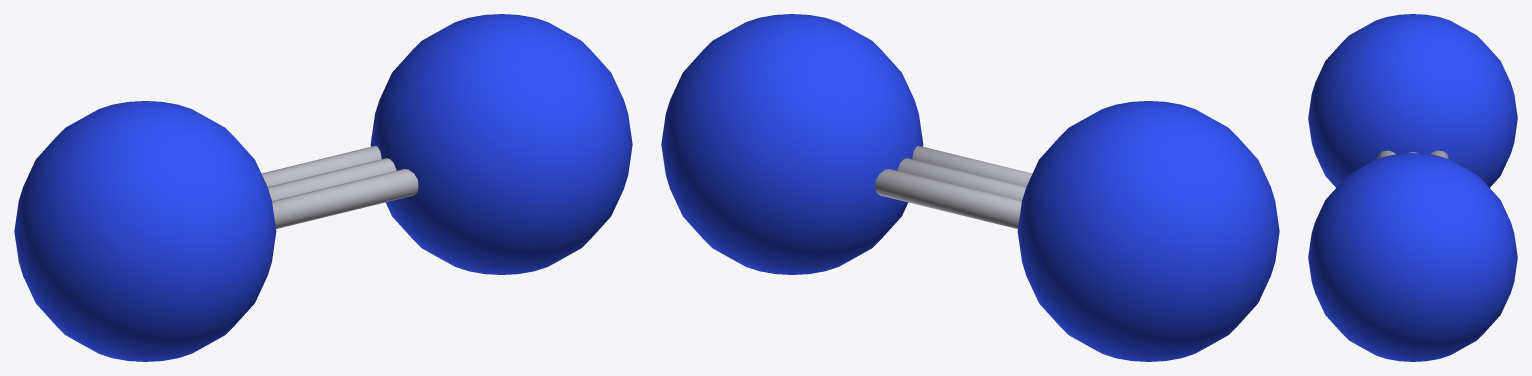
Rendered from nitrogen.glb.
The picture shows the model from 3 angles, left to right: view 1: azimuth 30°, elevation 25°; view 2: azimuth 150°, elevation 25°; view 3: azimuth 270°, elevation 25°; orthographic projection. The views are drawn at different scales.
Parts seen in each view (by area): view 1: N1, N0, bond0-0, bond0-1, bond0-2; view 2: N1, N0, bond0-2, bond0-1, bond0-0; view 3: N0, N1.
Part boxes in pixels (bbox=[...]): N1: bbox=[14, 101, 276, 361]; N0: bbox=[370, 14, 632, 274]; bond0-0: bbox=[272, 169, 418, 228]; bond0-1: bbox=[267, 158, 396, 200]; bond0-2: bbox=[261, 145, 381, 186]; N1: bbox=[1017, 101, 1279, 361]; N0: bbox=[661, 14, 923, 274]; bond0-2: bbox=[875, 169, 1021, 228]; bond0-1: bbox=[897, 158, 1026, 200]; bond0-0: bbox=[912, 145, 1032, 186]; N0: bbox=[1308, 153, 1517, 361]; N1: bbox=[1308, 14, 1517, 187].
Bounding box in the file's own units: 2.39 × 0.93 × 0.93.
